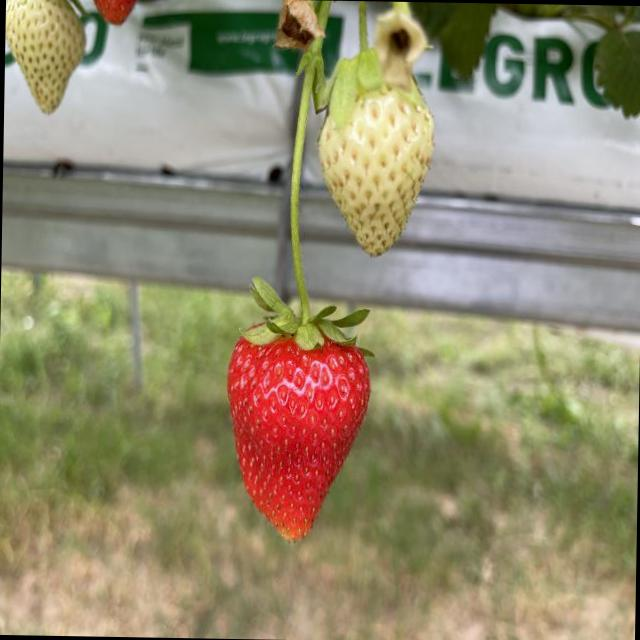stem: (244, 32, 364, 348), (64, 0, 81, 9)
strawberryNR: (319, 88, 431, 254), (7, 0, 82, 111)
strawberryR: (226, 339, 368, 539), (92, 0, 135, 22)
